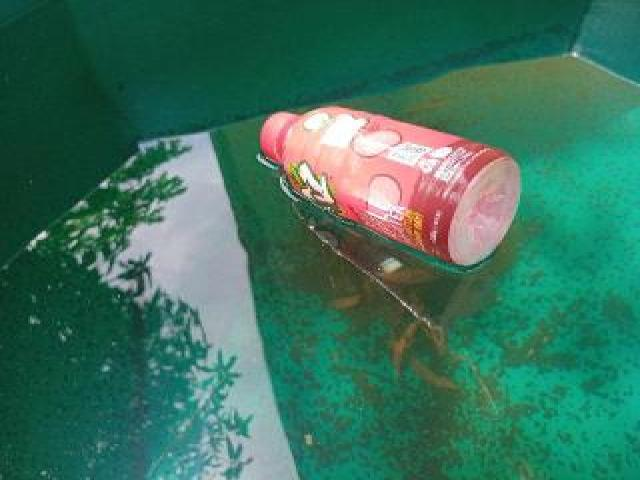Bottle: (251, 98, 529, 274)
